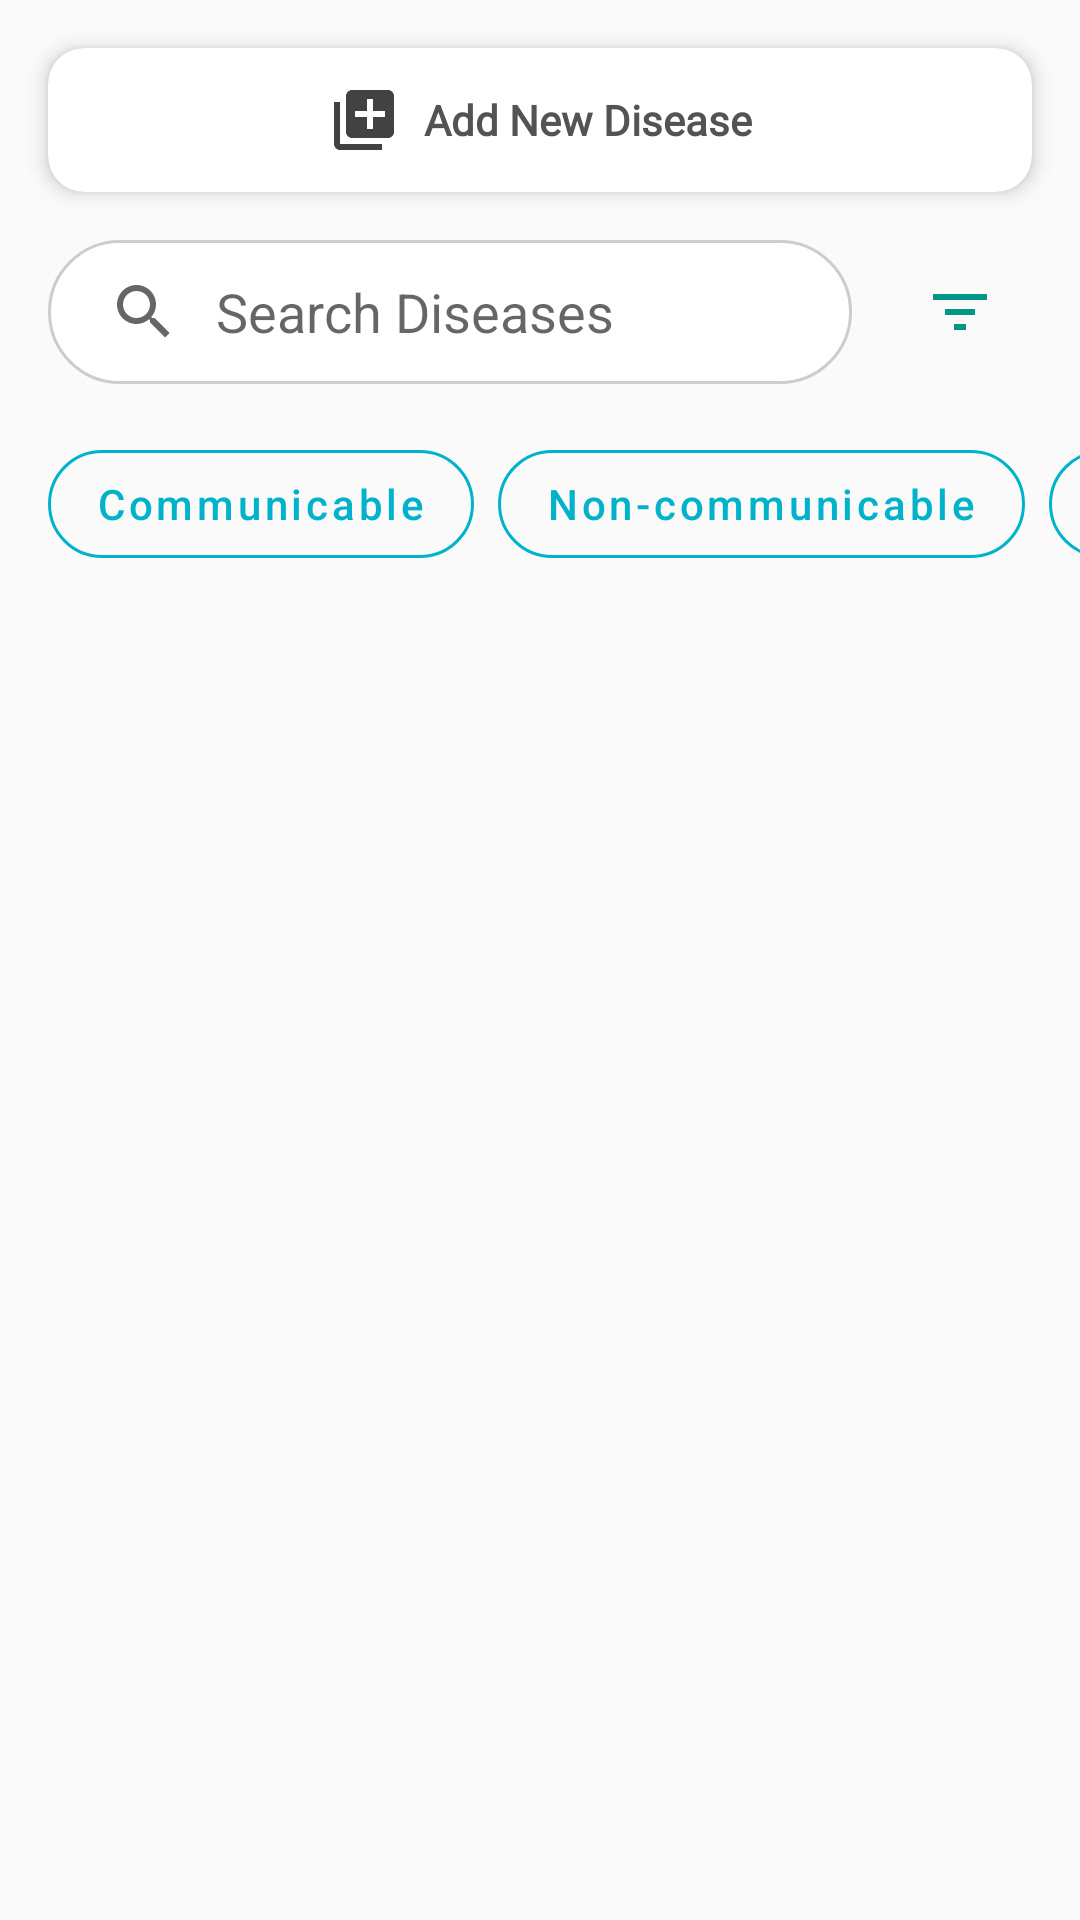

Icons on this 1080px x 1920px Android screen, each with the point to tap as (x,y):
Filter Settings: (960,312)
